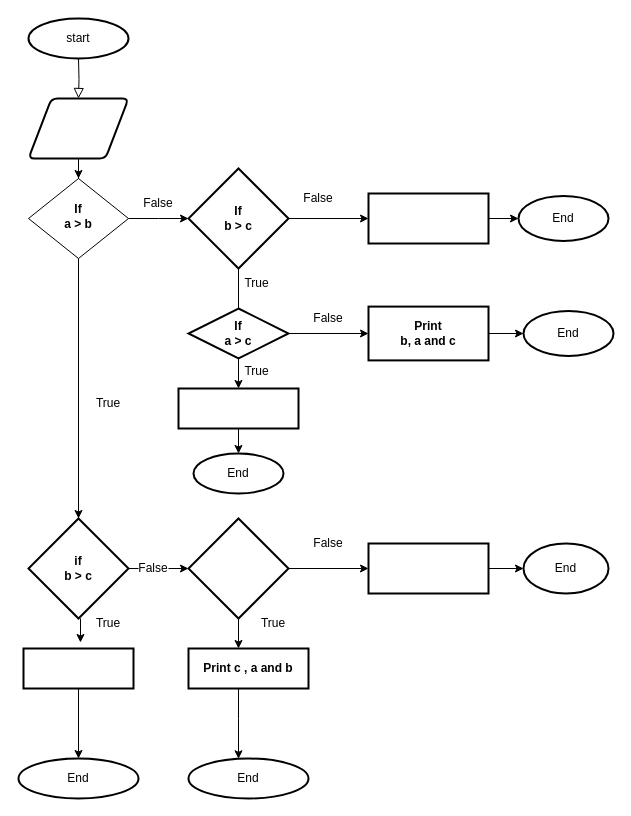
Some shapes in this 631 by 816 pixel diagram are drawn without their labels. The centre of each missing label's shape, as x and y in pixels:
"If c > a" goes at pixel 238 568.
"Print a, b and c" goes at pixel 78 668.
"Print a, c and b" goes at pixel 428 568.
"Print b, c and a" goes at pixel 238 408.
"Print c, b and a" goes at pixel 428 218.
"Read a, b and c" goes at pixel 78 128.
